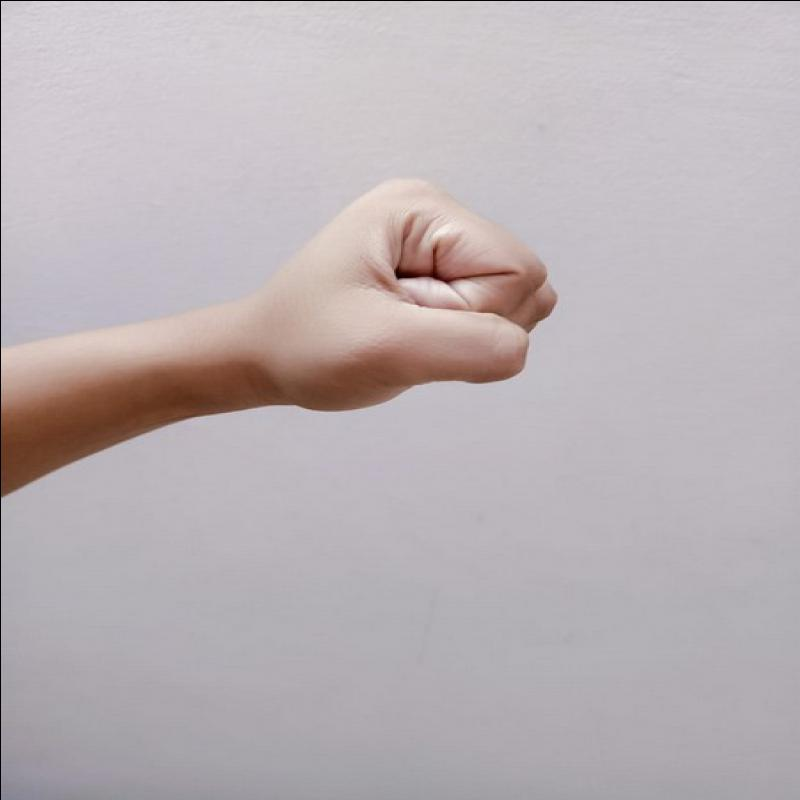Mushti: (227, 160, 568, 431)
